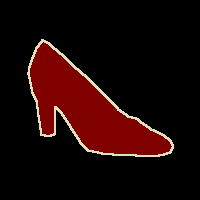shoe: (28, 40, 173, 156)
